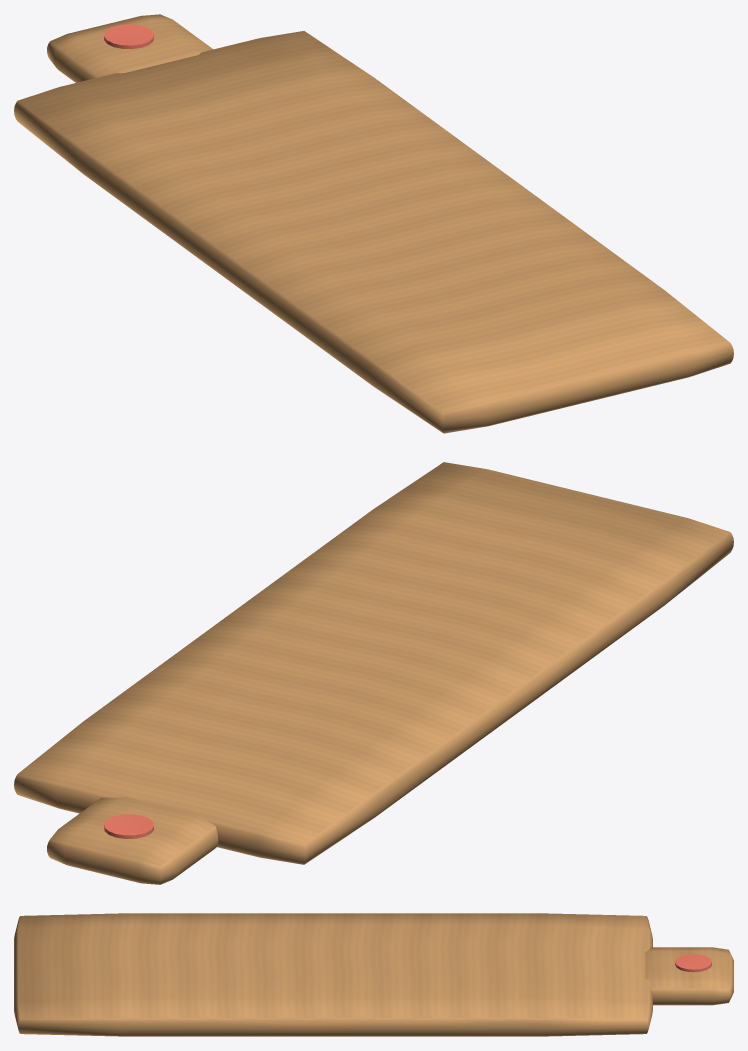
The model's file is 坡道板_木头.glb.
3 views of the same model, one above another, from view 1: azimuth 30°, elevation 25°; view 2: azimuth 150°, elevation 25°; view 3: azimuth 270°, elevation 25° (orthographic). The views are drawn at different scales.
Parts seen in each view (by area): view 1: RampBoard_木头; view 2: RampBoard_木头; view 3: RampBoard_木头.
Part boxes in pixels (x1=…): RampBoard_木头: x1=14, y1=14, x2=733, y2=433; RampBoard_木头: x1=14, y1=462, x2=733, y2=884; RampBoard_木头: x1=14, y1=913, x2=733, y2=1036.
Size of what is drawn, in the model's own units: 0.22 by 0.026 by 0.6198.
Materials: 2 (2 with a texture image).
